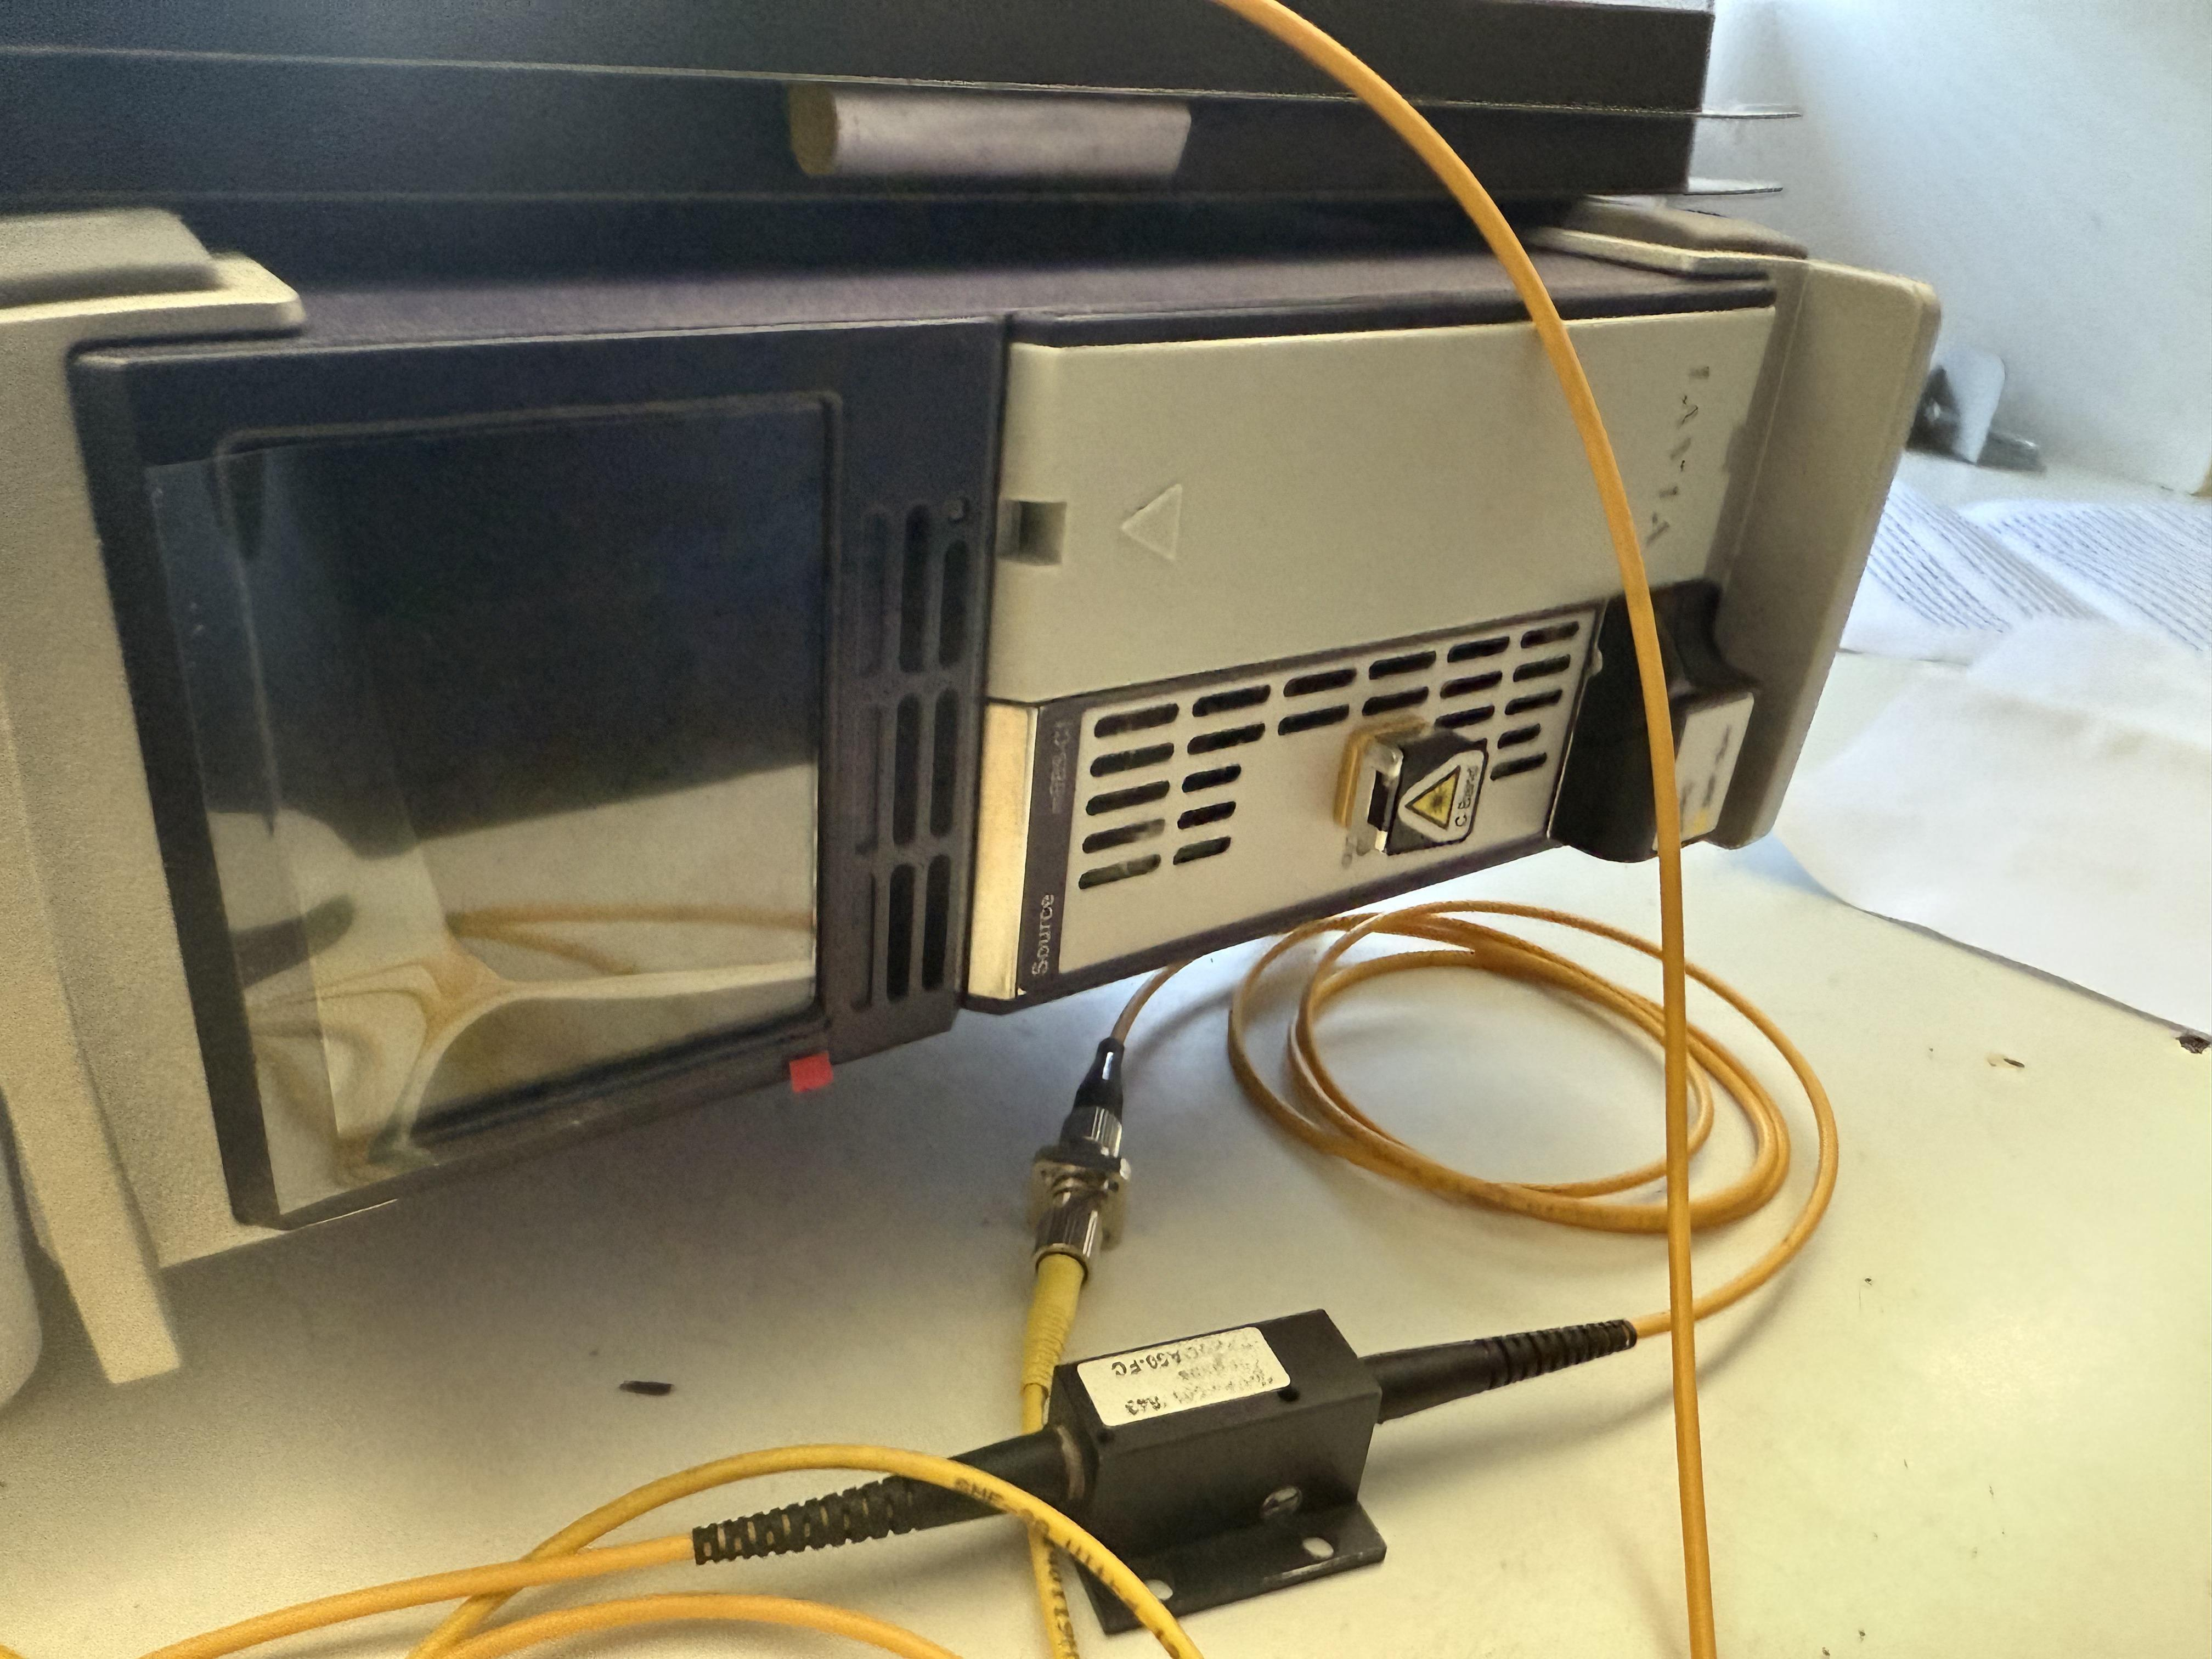laser: (0, 209, 1972, 1394)
